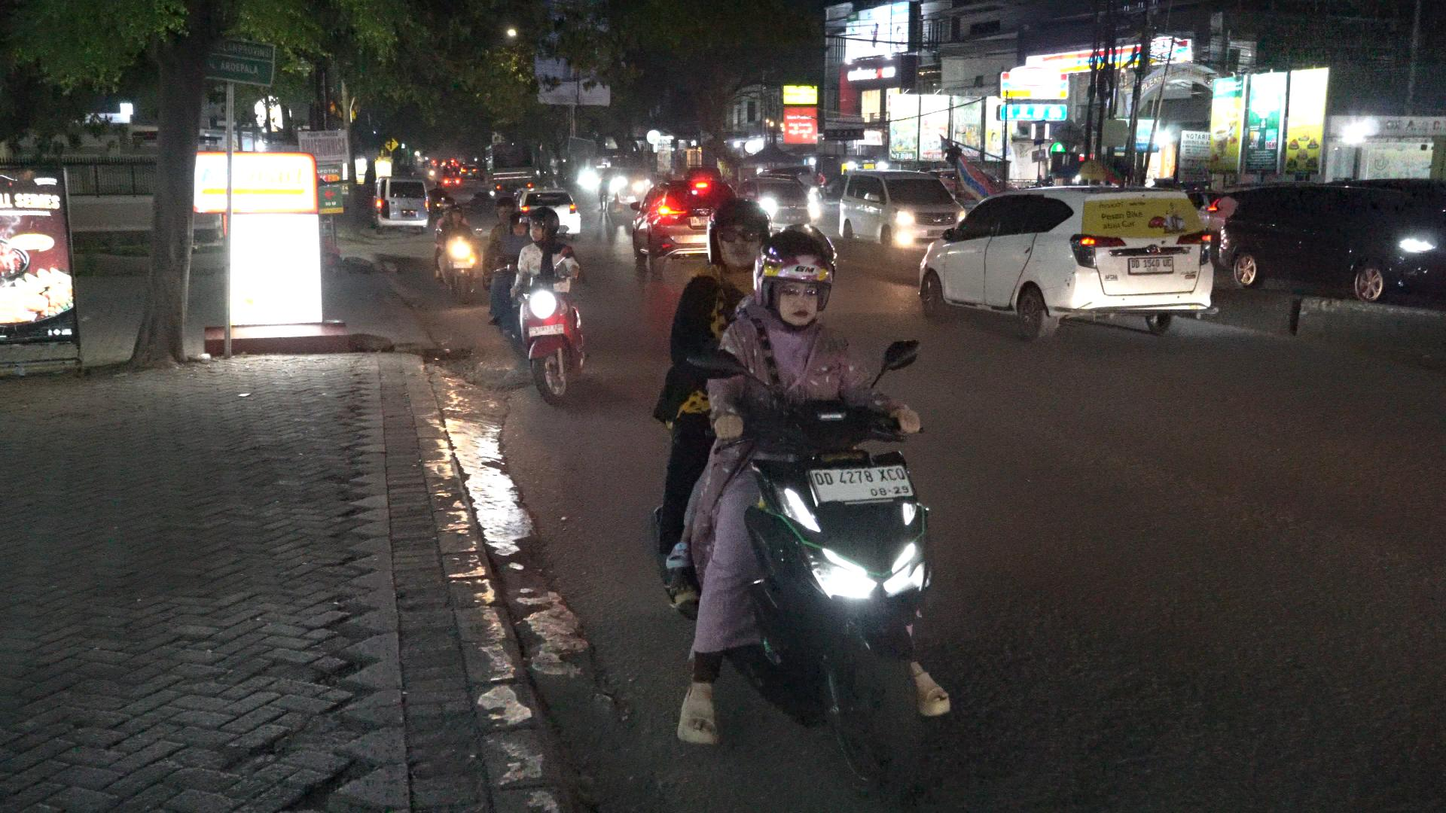number-plate: (801, 459, 915, 508), (527, 323, 567, 336)
